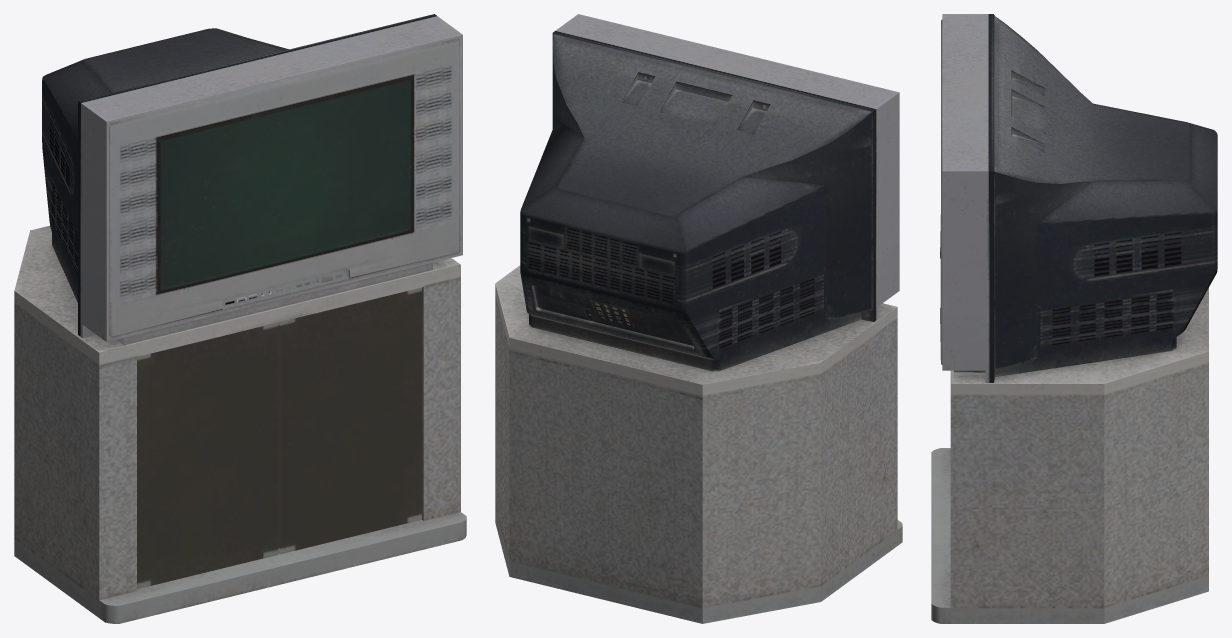
The model's file is 044_Crttv.fbx.
3 views of the same model, side by side, from view 1: azimuth 30°, elevation 25°; view 2: azimuth 150°, elevation 25°; view 3: azimuth 270°, elevation 25° (orthographic). The views are drawn at different scales.
Visible parts, largest first — view 1: LOD_1_Group_0_Sub_1__sm31_044_CRTTV01A_A_Mat__Env_Default, LOD_1_Group_2_Sub_1__sm31_044_CRTTV01A_A_Mat__Env_Alpha, LOD_1_Group_1_Sub_1__sm31_044_CRTTV01A_A_Mat__Env_Default; view 2: LOD_1_Group_0_Sub_1__sm31_044_CRTTV01A_A_Mat__Env_Default, LOD_1_Group_1_Sub_1__sm31_044_CRTTV01A_A_Mat__Env_Default; view 3: LOD_1_Group_0_Sub_1__sm31_044_CRTTV01A_A_Mat__Env_Default, LOD_1_Group_1_Sub_1__sm31_044_CRTTV01A_A_Mat__Env_Default.
Part boxes in pixels (left/top/right/bottom): LOD_1_Group_0_Sub_1__sm31_044_CRTTV01A_A_Mat__Env_Default: left=42, top=14, right=462, bottom=345; LOD_1_Group_2_Sub_1__sm31_044_CRTTV01A_A_Mat__Env_Alpha: left=137, top=287, right=421, bottom=589; LOD_1_Group_1_Sub_1__sm31_044_CRTTV01A_A_Mat__Env_Default: left=14, top=225, right=466, bottom=623; LOD_1_Group_0_Sub_1__sm31_044_CRTTV01A_A_Mat__Env_Default: left=520, top=14, right=899, bottom=371; LOD_1_Group_1_Sub_1__sm31_044_CRTTV01A_A_Mat__Env_Default: left=495, top=265, right=902, bottom=623; LOD_1_Group_0_Sub_1__sm31_044_CRTTV01A_A_Mat__Env_Default: left=940, top=14, right=1217, bottom=382; LOD_1_Group_1_Sub_1__sm31_044_CRTTV01A_A_Mat__Env_Default: left=931, top=288, right=1208, bottom=623.
Bounding box in the file's own units: 0.8863 × 1.17 × 0.6725.
